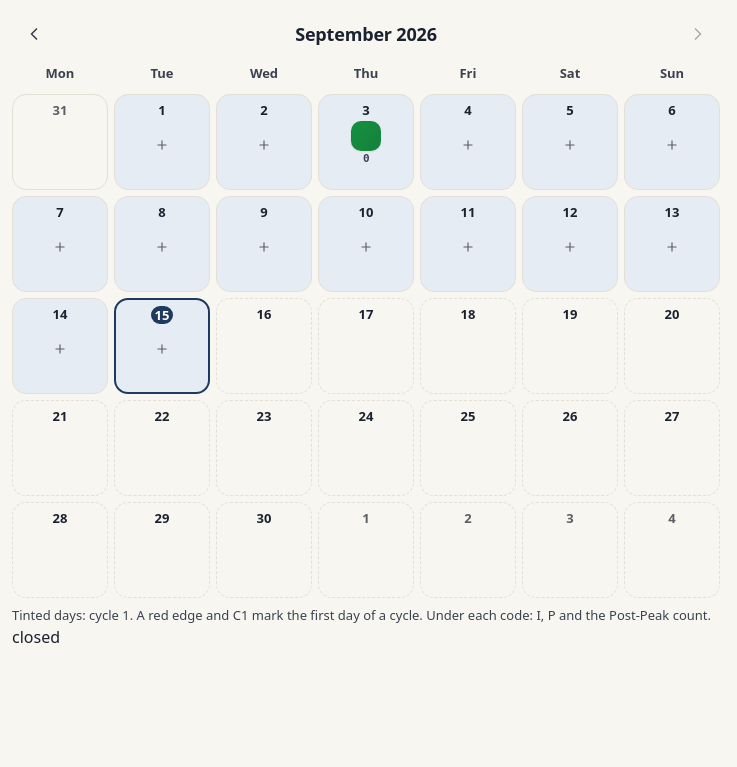
Test case: CalendarGrid navigation and selection › fills the first and last weeks with the days of the months around
Check: the button named "Date 2026-10-04, No observation" is disabled, box [624,502,720,598]
// A click opens the month of the day, and not the drawer
Click the button named "Date 2026-08-31, No observation, Opens August": (60, 142) [12,94,108,190]
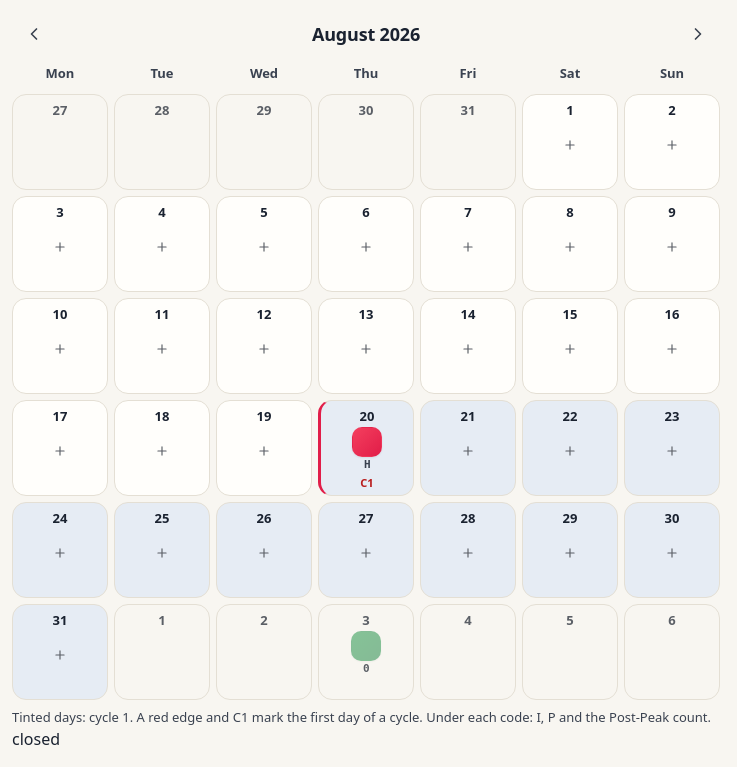
Check: the text with test id "drawer" reads "closed", box [12,728,60,750]
Check: the heading "August 2026" is shown, box [312,20,420,48]
Click the button named "Date 2026-09-03, Observation 0, Opens September": (366, 652) [318,604,414,700]
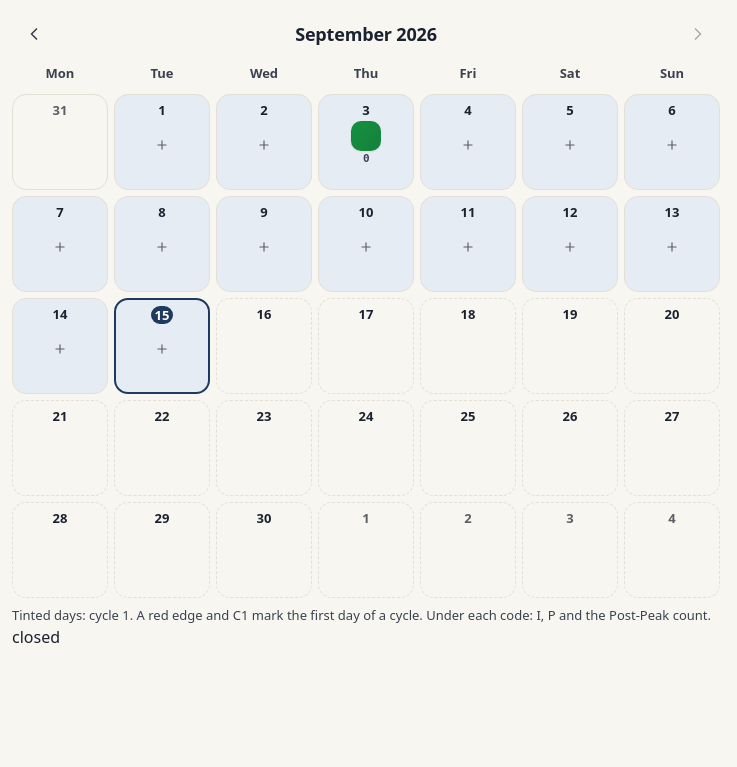
Check: the heading "September 2026" is shown, box [295,20,437,48]
